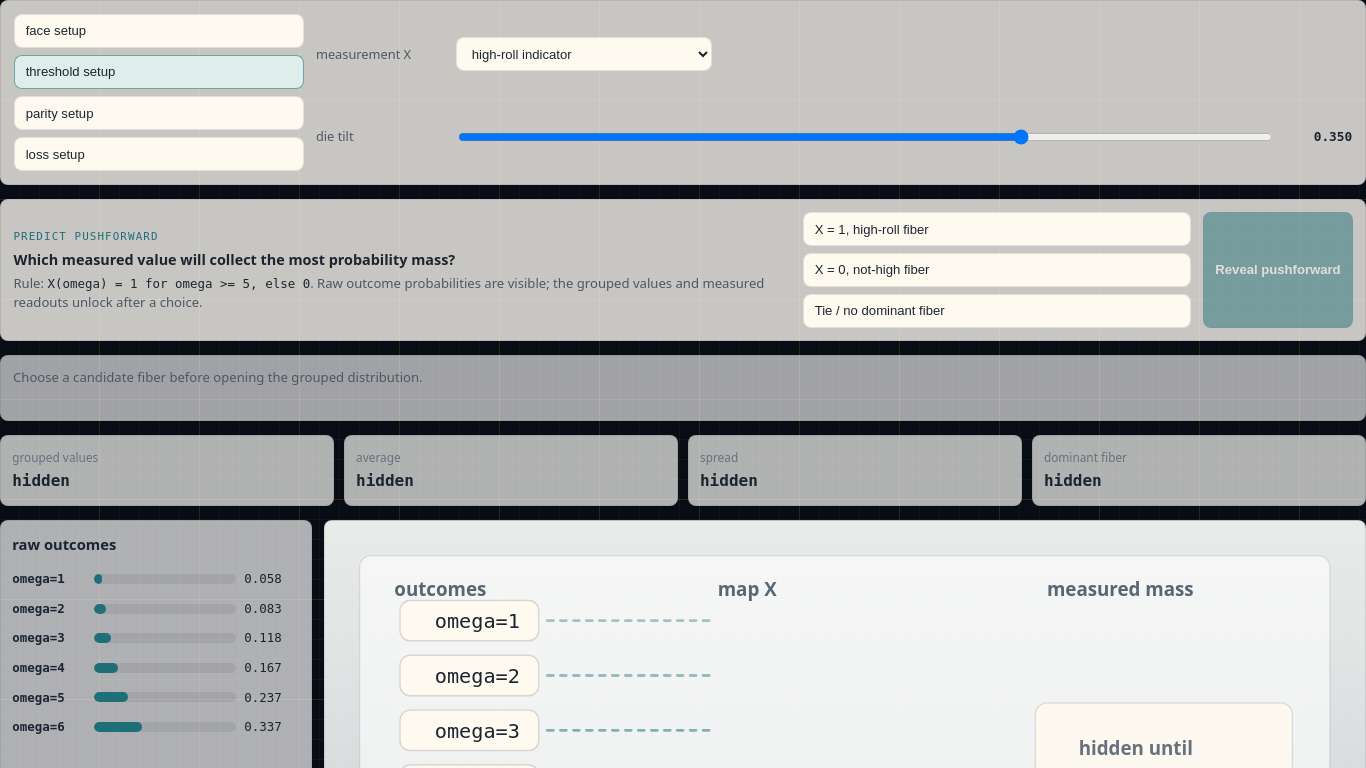
Test: RandomVariablesViz prediction reveal › uses the exact largest fiber rather than a near-tie tolerance as the winner
Select "odd indicator" in the dropdown labelled "measurement X" at (584, 54), box [456,38,712,72]
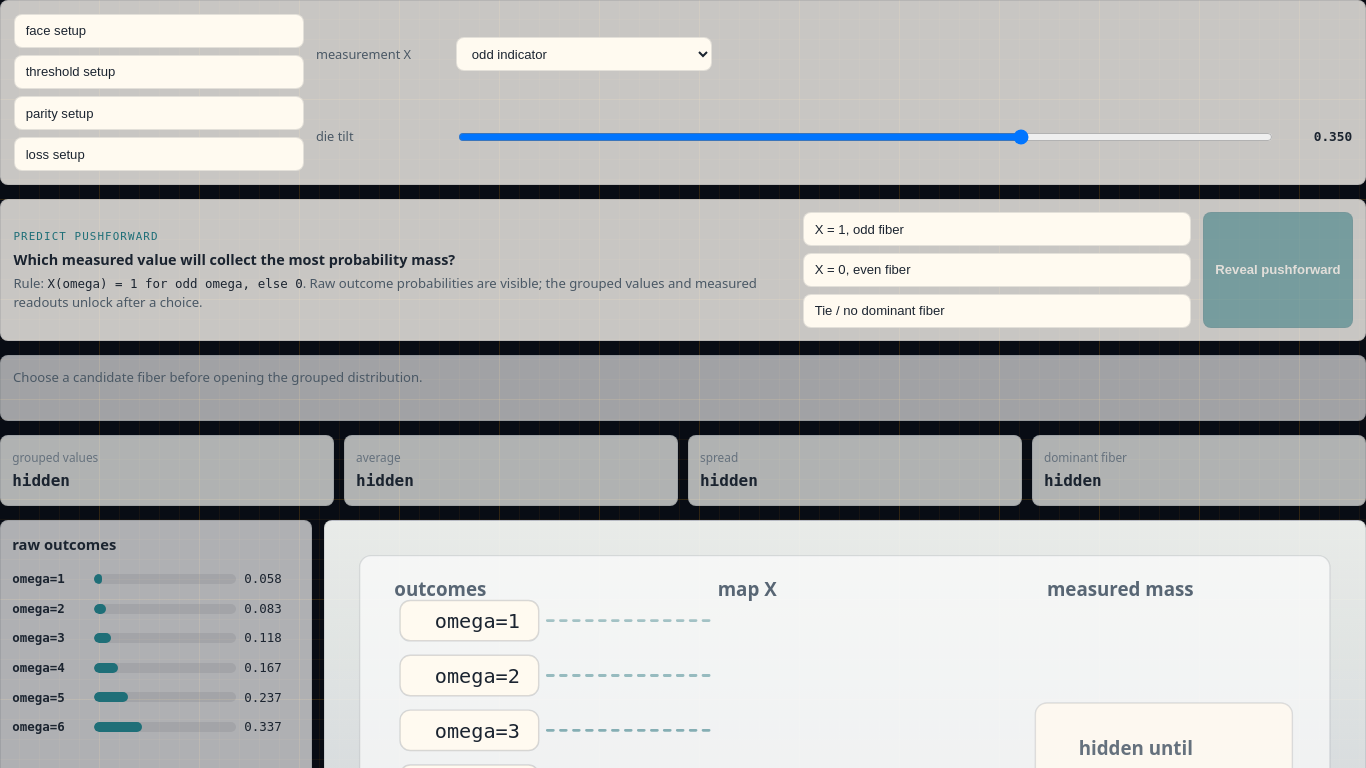
Set the slider labelled "die tilt 0.350" to "-0.01" at (861, 137), box [458,129,1273,145]
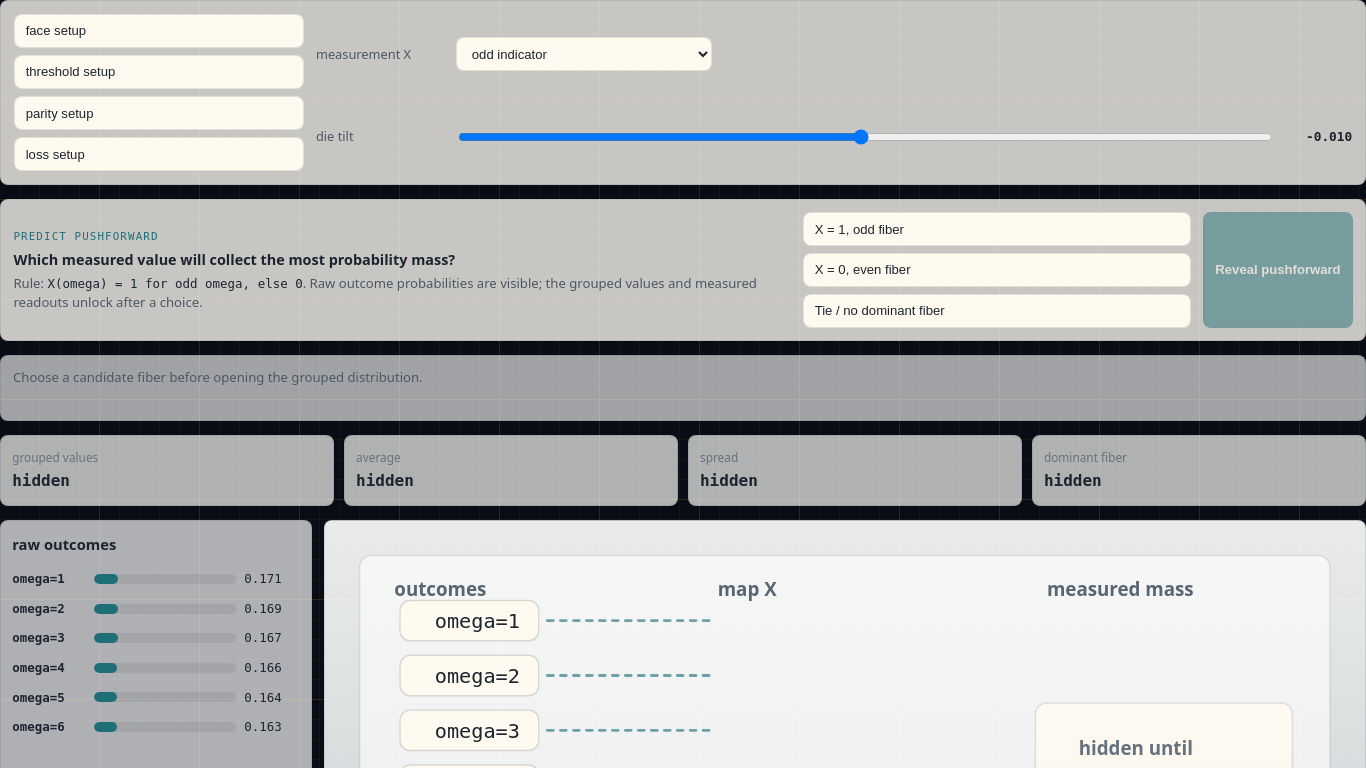
Click the button "X = 1, odd fiber" at (859, 229), box [803,212,1192,246]
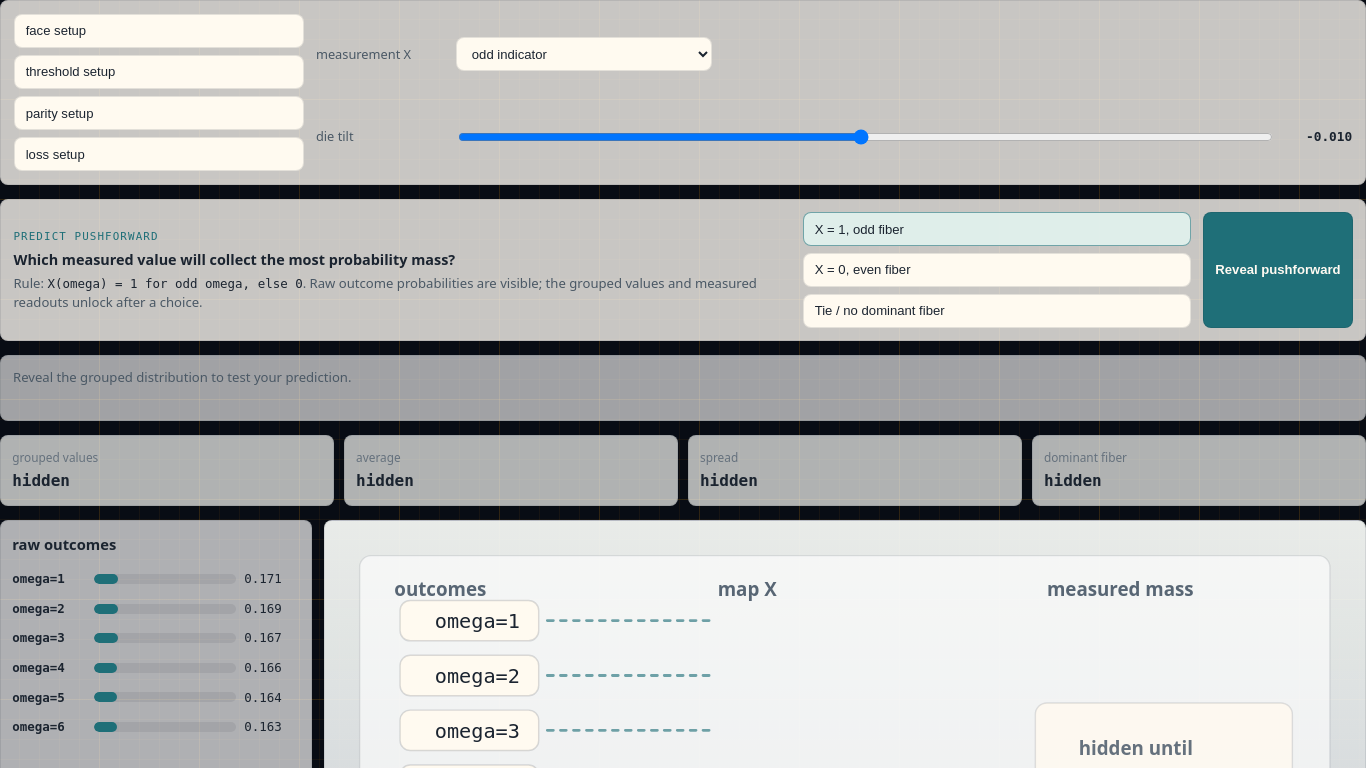
Click the button "Reveal pushforward" at (1278, 270), box [1204,212,1353,328]
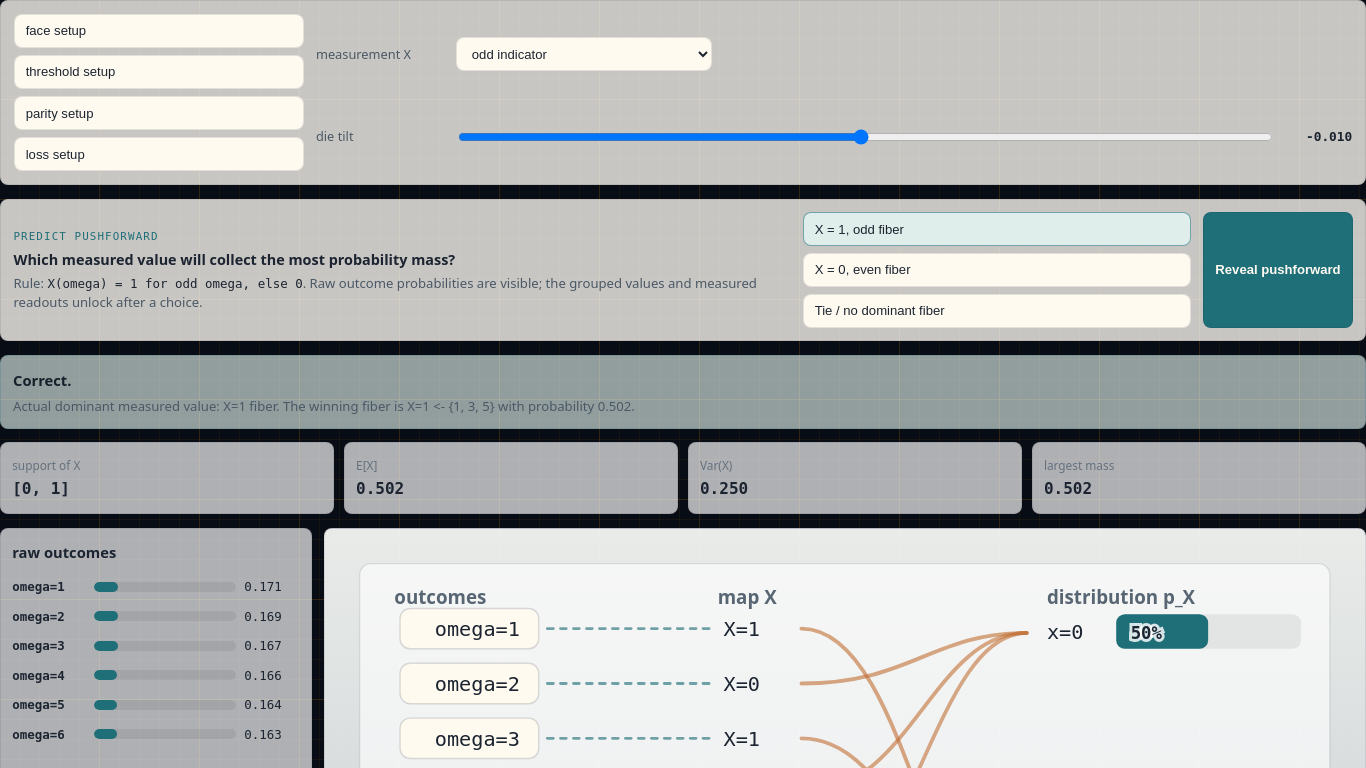
Expected: the heading "Correct." is shown, [13,370,71,390]
Expected: the text "winning fiber is X=1 <- {1, 3, 5}" is shown, [13,397,635,415]
